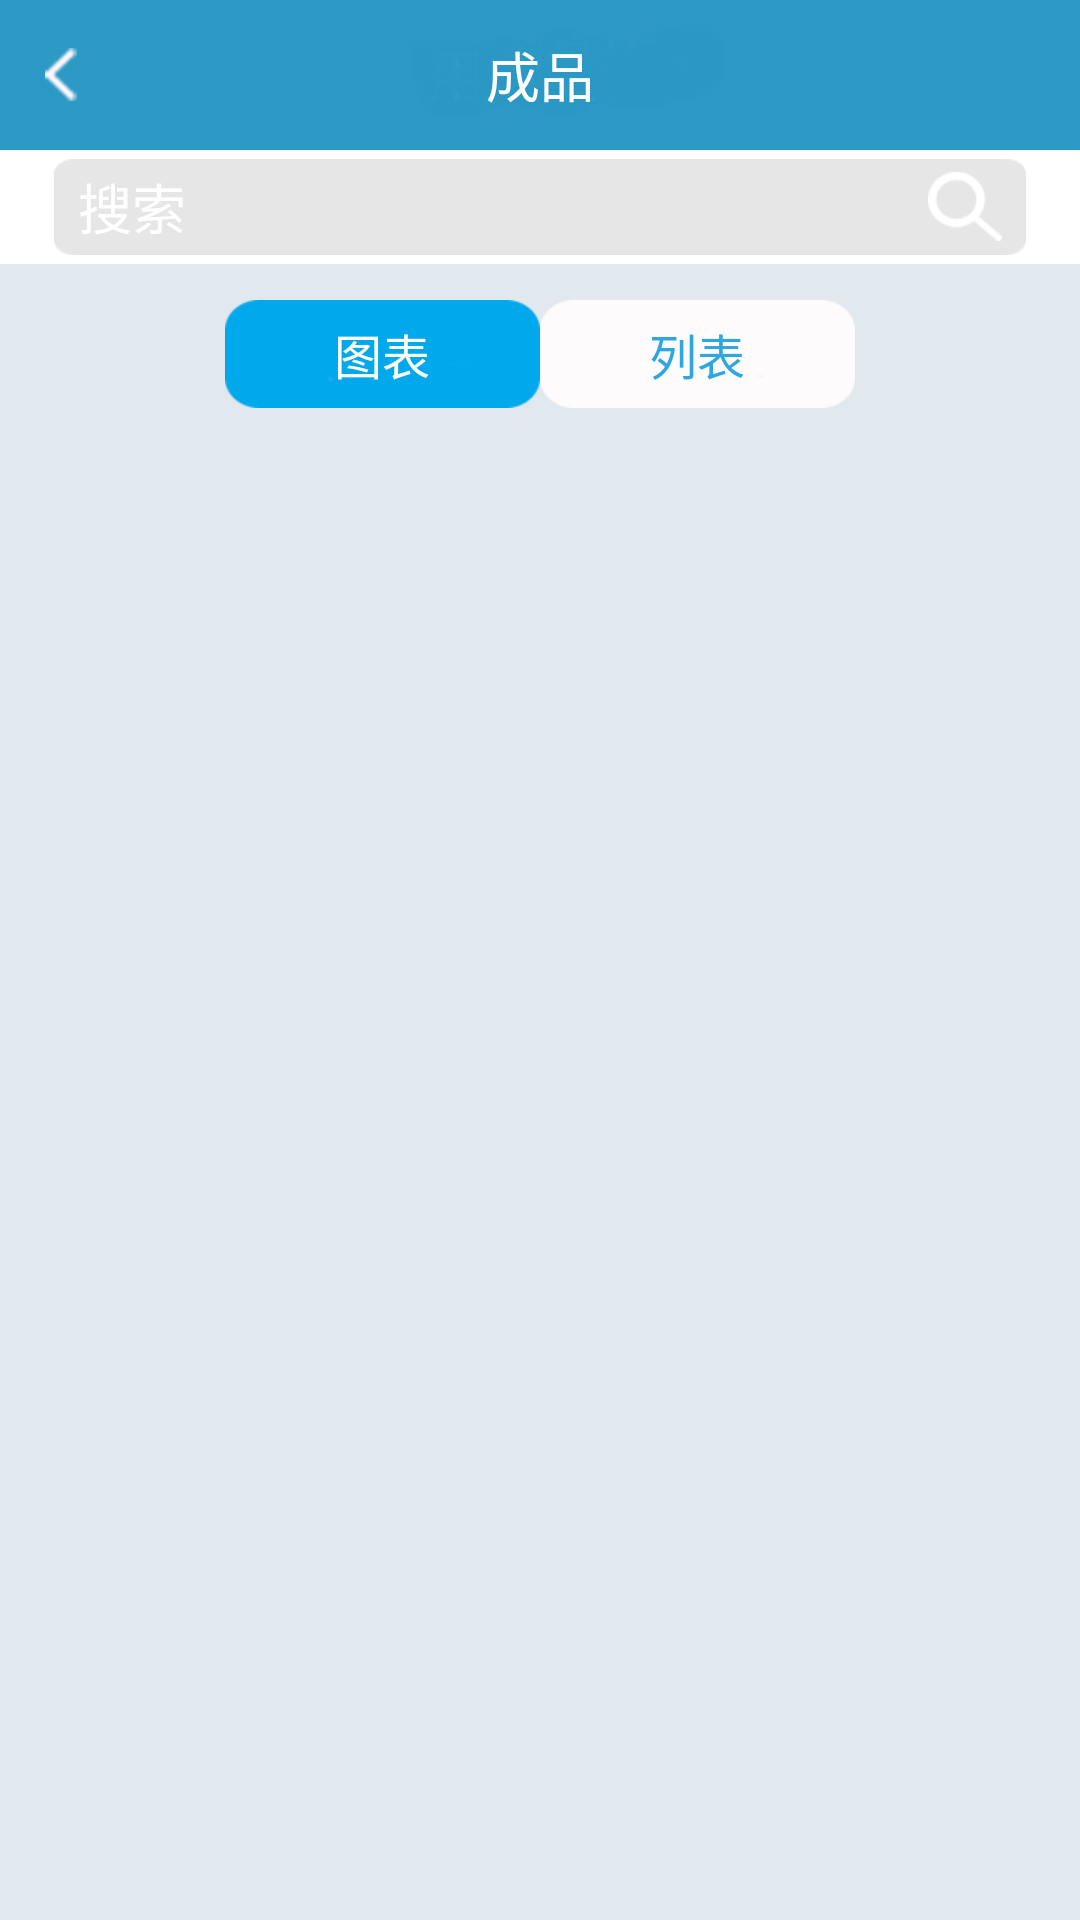

Icon click points for this 1080x1920 phone screenshot, format point (x, y):
back: point (61, 74)
